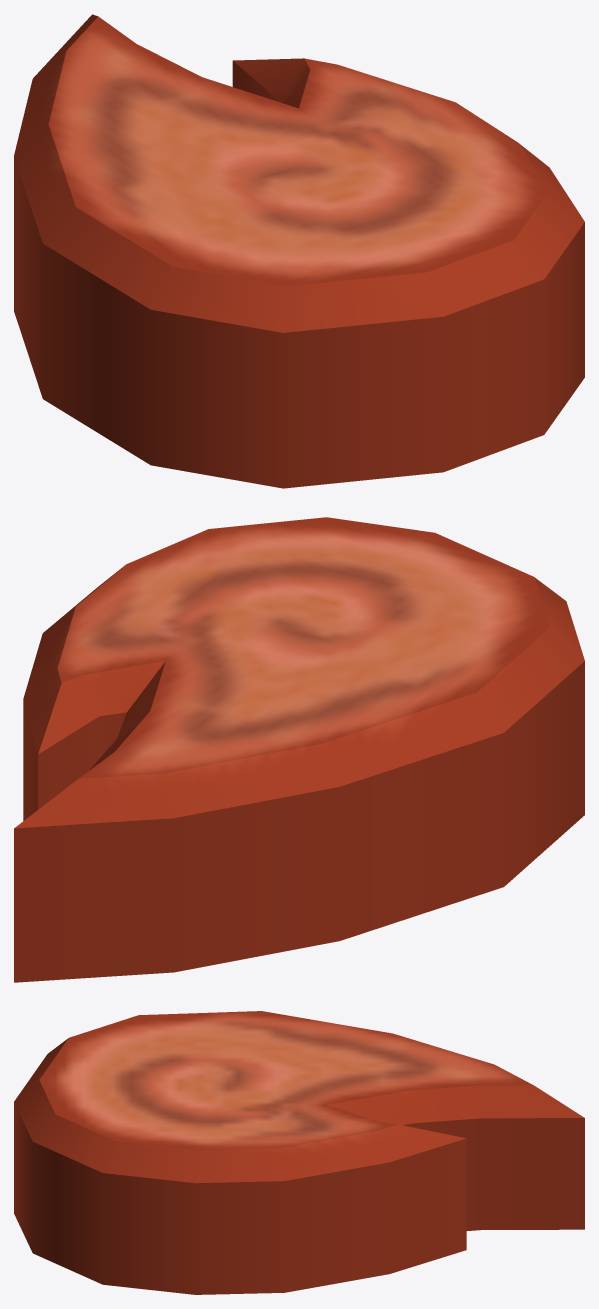
File: SymbolFlame.fbx
The picture shows the model from 3 angles, top to bottom: view 1: azimuth 30°, elevation 25°; view 2: azimuth 150°, elevation 25°; view 3: azimuth 270°, elevation 25°; orthographic projection. The views are drawn at different scales.
Parts seen in each view (by area): view 1: fire; view 2: fire; view 3: fire.
Part boxes in pixels (x1,y1,x2,y2): fire: (14,14,584,488); fire: (14,517,584,982); fire: (14,1011,584,1294).
Size of the model in its own units: 0.077 by 0.03 by 0.1158.
Materials: 1 (1 with a texture image).
